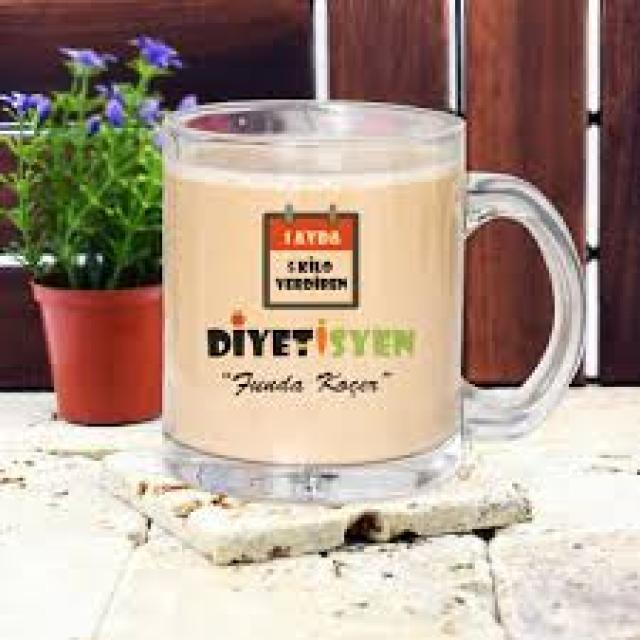taza: (162, 100, 584, 508)
